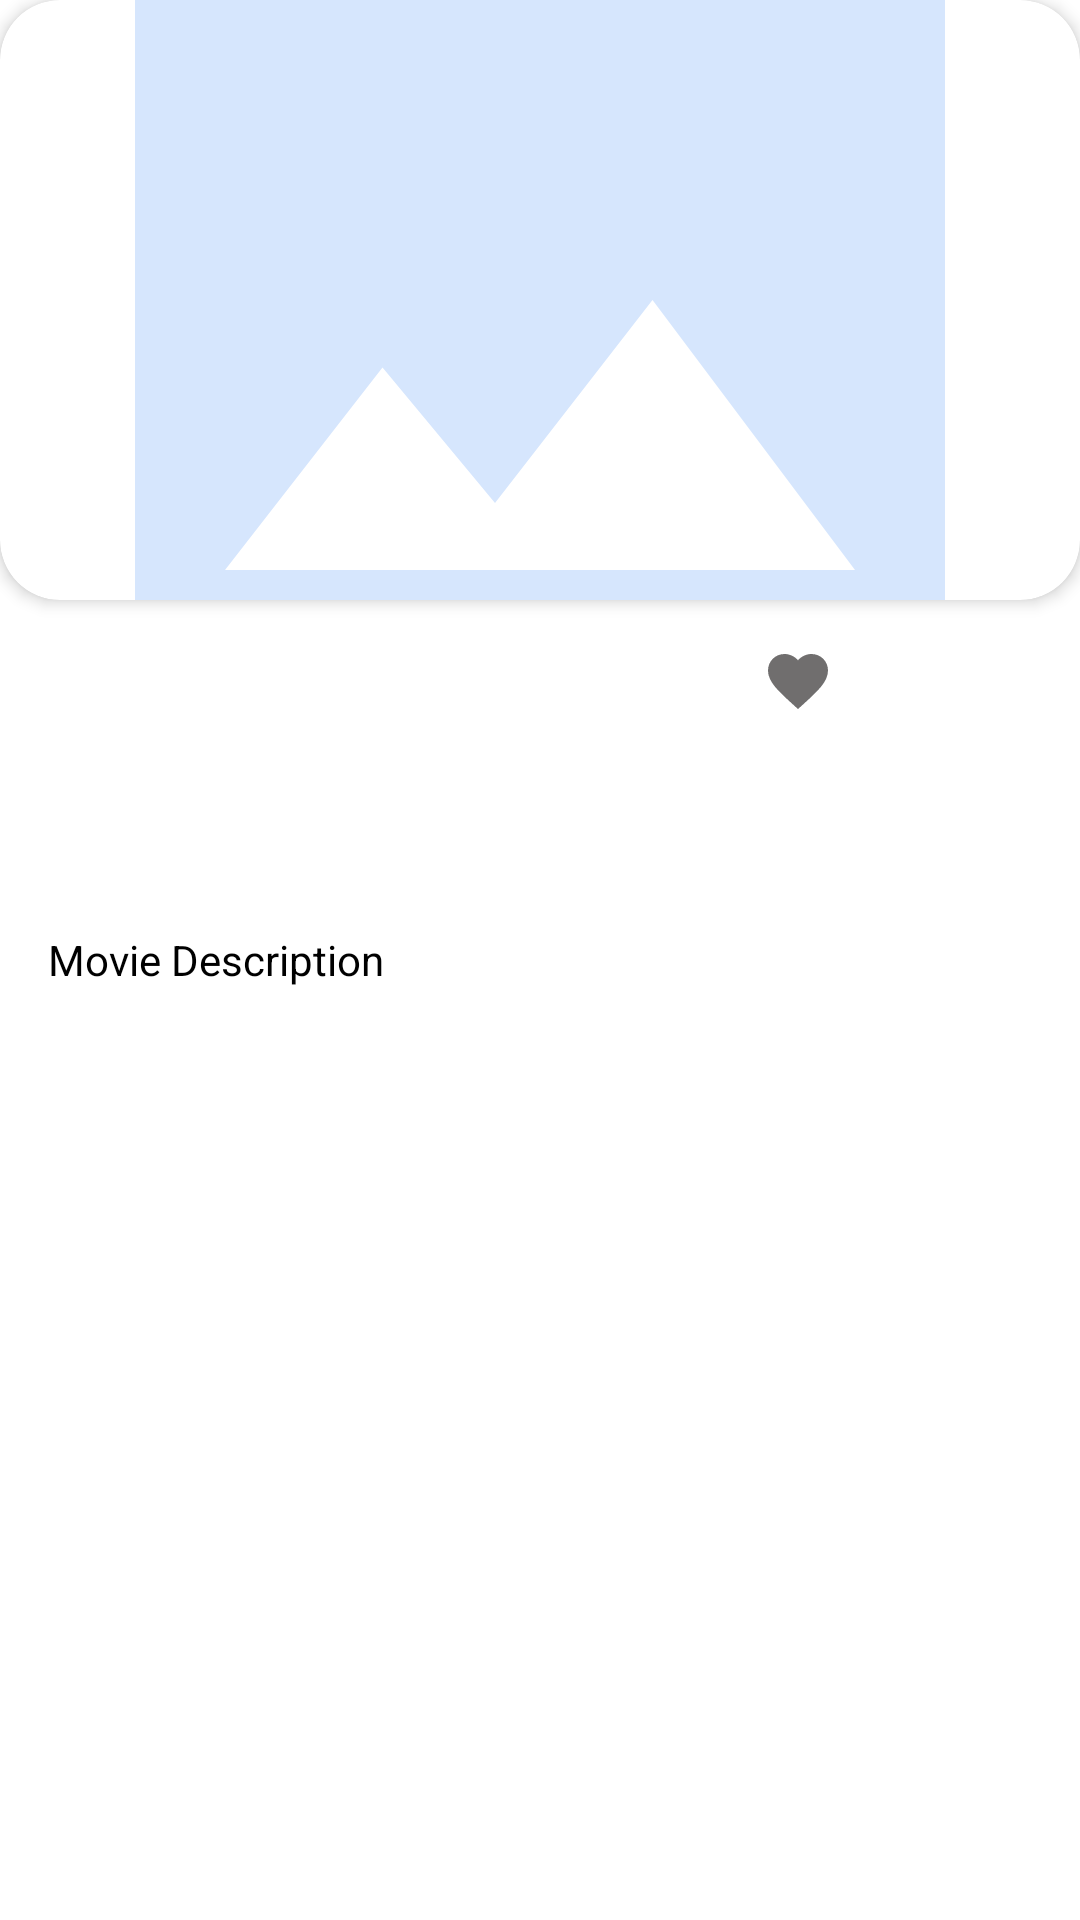

Icons on this 1080w x 1920h Android screen, each with its box as region(x1, y1, x2, y2):
favorite: region(768, 654, 828, 709)
